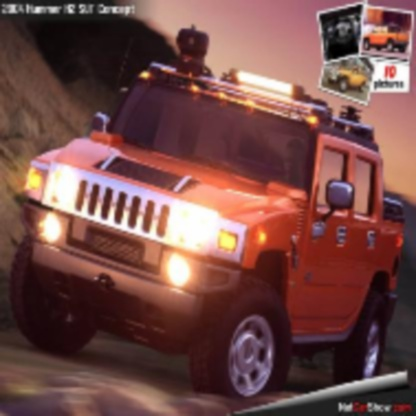Vehicle: (8, 25, 405, 399)
